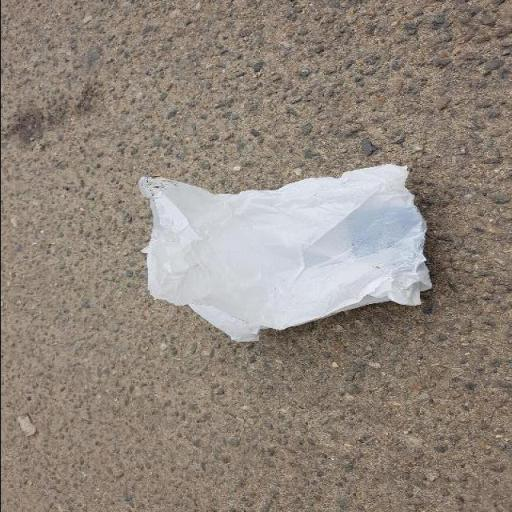plastic-bag: (135, 162, 436, 344)
